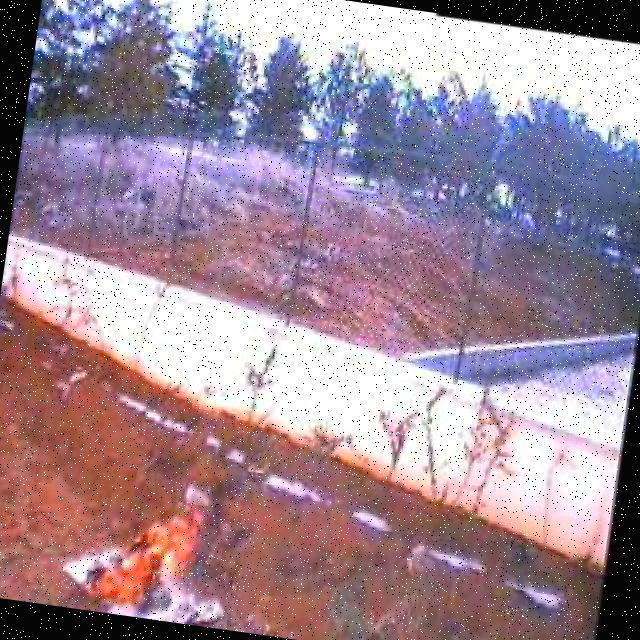Fire: (65, 468, 222, 622)
